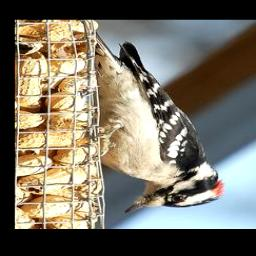Woodpecker: (86, 34, 227, 213)
